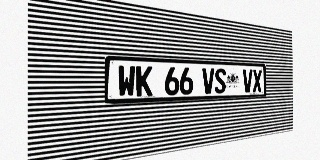6: (165, 67, 179, 95), (180, 67, 193, 95)
K: (136, 66, 152, 96)
S: (215, 68, 226, 94)
V: (202, 68, 214, 94), (243, 69, 252, 92)
W: (118, 65, 135, 97)
X: (253, 70, 262, 92)
